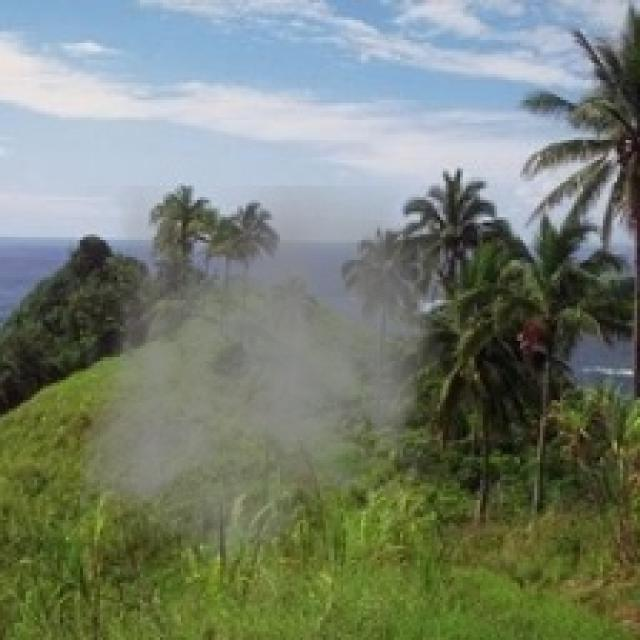smoke: (80, 186, 443, 583)
